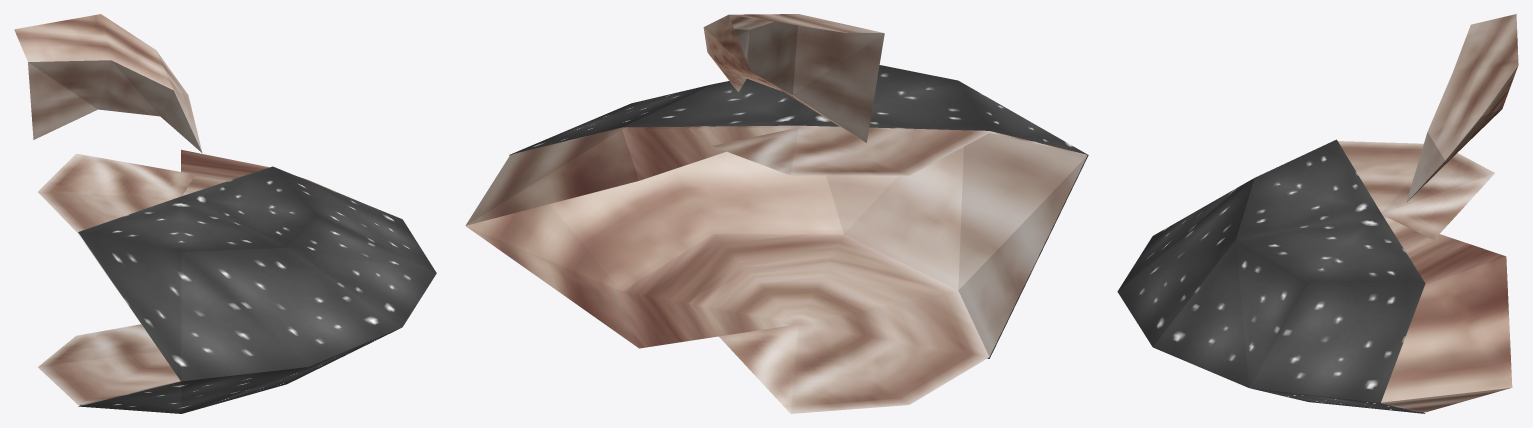
3 views of the same model, side by side, from view 1: azimuth 30°, elevation 25°; view 2: azimuth 150°, elevation 25°; view 3: azimuth 270°, elevation 25° (orthographic). The views are drawn at different scales.
Visible parts, largest first — view 1: B_0021_3a_1, B_0021_3a_0; view 2: B_0021_3a_0, B_0021_3a_1; view 3: B_0021_3a_1, B_0021_3a_0.
Boxes of the visible parts, x1,y1,x2,y2 form: B_0021_3a_1: (78, 166, 436, 413); B_0021_3a_0: (14, 14, 359, 405); B_0021_3a_0: (465, 14, 1087, 413); B_0021_3a_1: (509, 65, 1088, 358); B_0021_3a_1: (1117, 139, 1425, 413); B_0021_3a_0: (1338, 14, 1518, 412).
Size of the model in its own units: 3.57 by 3.07 by 3.48.
2 materials, 2 textured.
